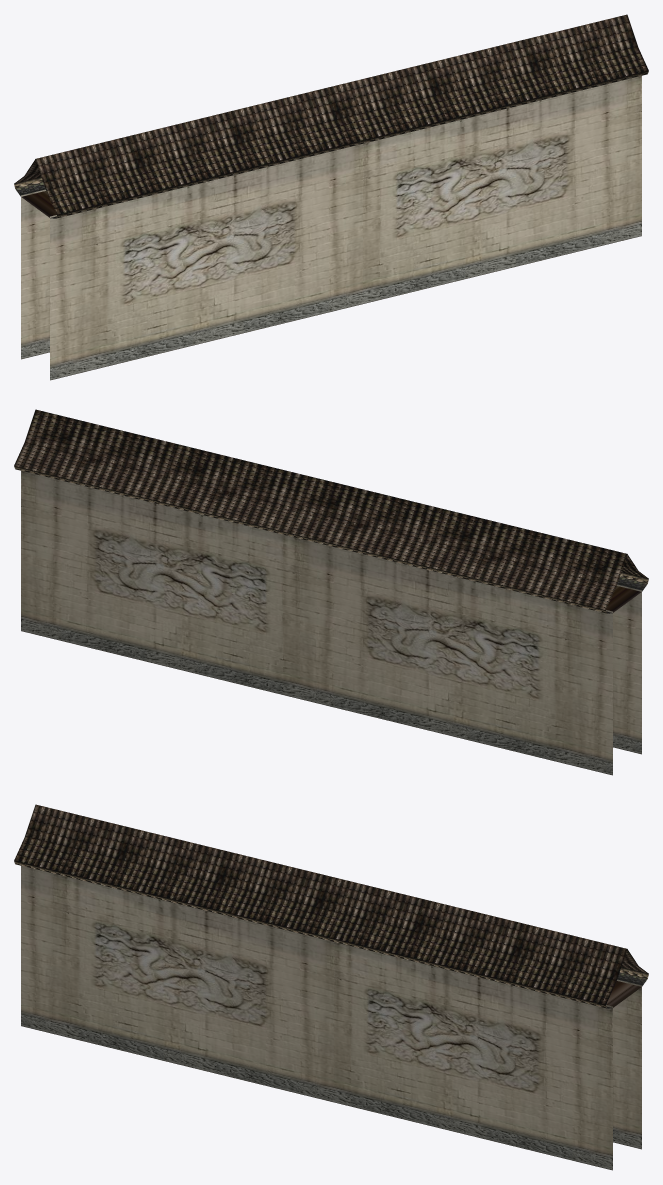
3 renders of one model, top to bottom at view 1: azimuth 30°, elevation 25°; view 2: azimuth 150°, elevation 25°; view 3: azimuth 330°, elevation 25°, orthographic.
Parts seen in each view (by area): view 1: Box84; view 2: Box84; view 3: Box84.
Boxes of the visible parts, <box> form: Box84: <box>14,14,648,380</box>; Box84: <box>14,409,648,775</box>; Box84: <box>14,804,648,1170</box>.
Size of the model in its own units: 244 by 83.28 by 30.84.
